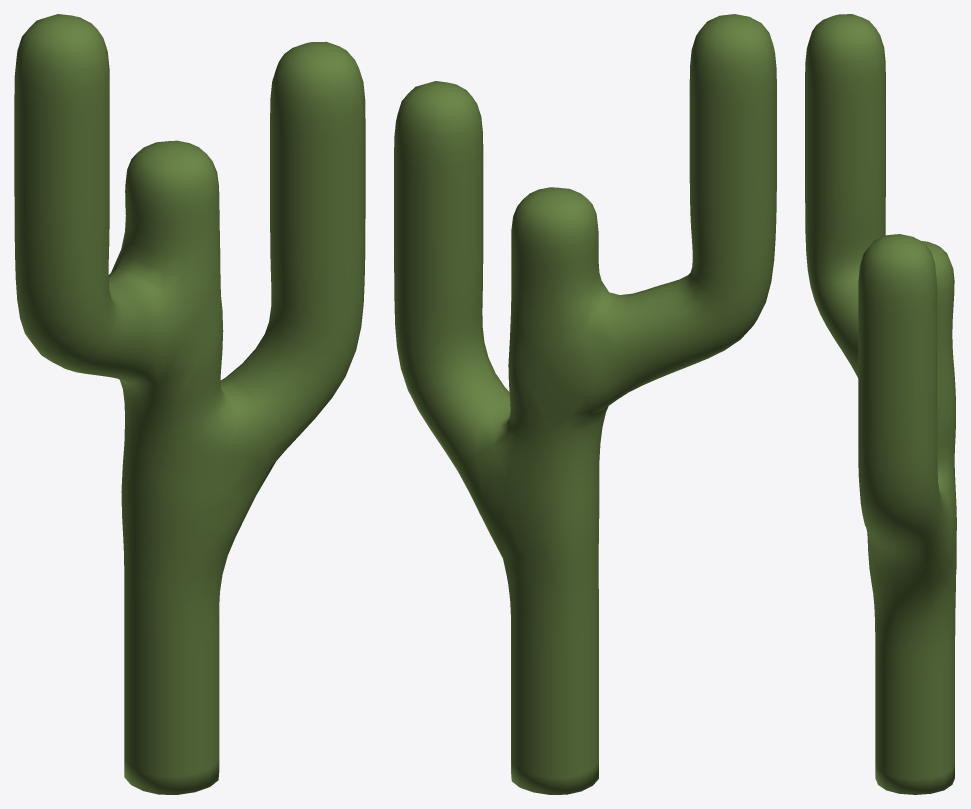
The model's file is Cactus 2.fbx.
3 renders of one model, left to right at view 1: azimuth 30°, elevation 25°; view 2: azimuth 150°, elevation 25°; view 3: azimuth 270°, elevation 25°, orthographic. The views are drawn at different scales.
Parts seen in each view (by area): view 1: Cube.002; view 2: Cube.002; view 3: Cube.002.
Part boxes in pixels (x1=…): Cube.002: x1=14, y1=14, x2=365, y2=794; Cube.002: x1=394, y1=14, x2=776, y2=794; Cube.002: x1=805, y1=14, x2=956, y2=794.
Size of the model in its own units: 2.07 by 4.42 by 0.8715.
